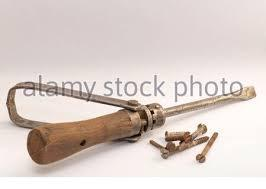screwdriver: (151, 84, 257, 118)
